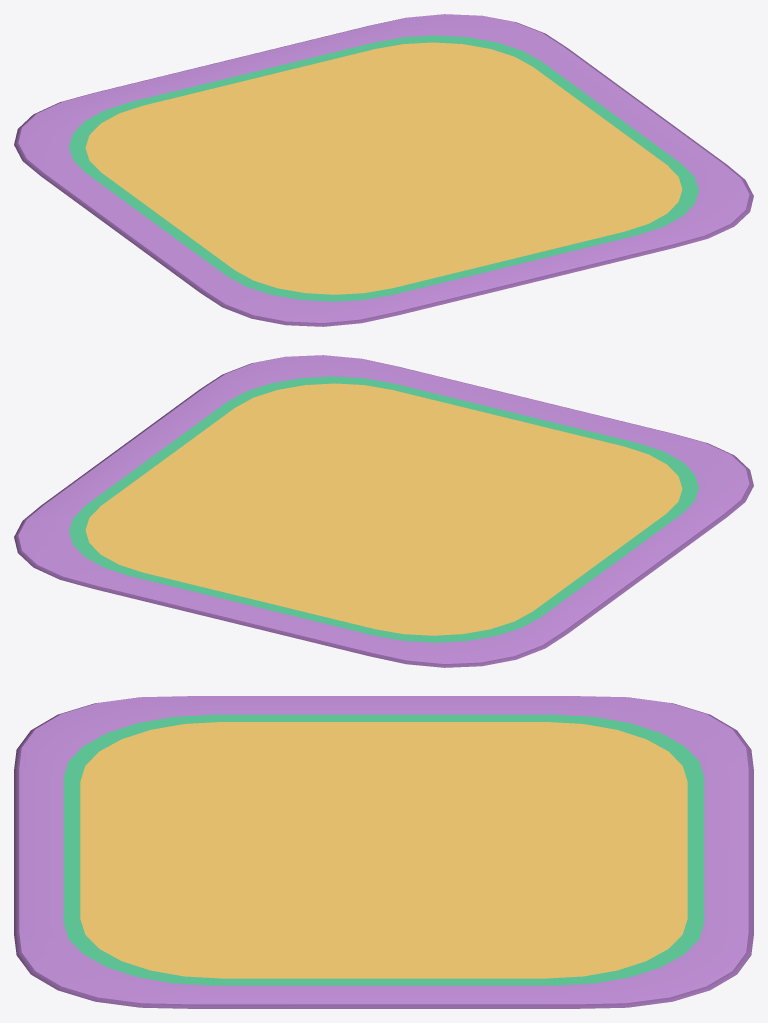
File: floor_box_rocket.fbx
The picture shows the model from 3 angles, top to bottom: view 1: azimuth 30°, elevation 25°; view 2: azimuth 150°, elevation 25°; view 3: azimuth 270°, elevation 25°; orthographic projection. The views are drawn at different scales.
Visible parts, largest first — view 1: floor_box_rocket; view 2: floor_box_rocket; view 3: floor_box_rocket.
Boxes of the visible parts, x1,y1,x2,y2 form: floor_box_rocket: (14, 14, 753, 326); floor_box_rocket: (14, 355, 753, 667); floor_box_rocket: (14, 696, 753, 1008).
Size of the model in its own units: 509 by 1.72 by 509.
